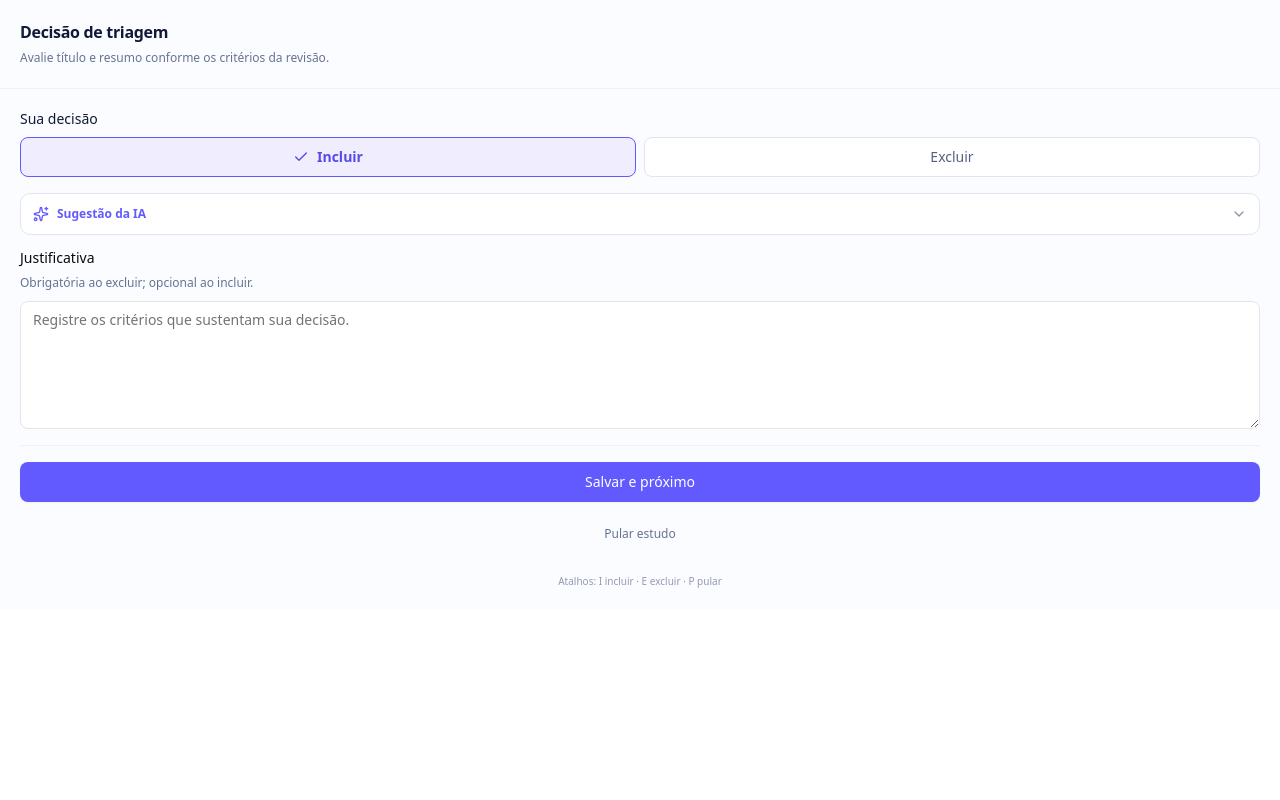
Test: ScreeningDecisionTool › copies the labeled AI suggestion as an editable draft without submitting
Check: the text "Sugestão da IA" is shown, box [33,206,146,222]
What coordinates should you click on to do the following:
click the heading "Sugestão da IA"
I would click on:
 (102, 214)
Its box is [33,205,1247,222].
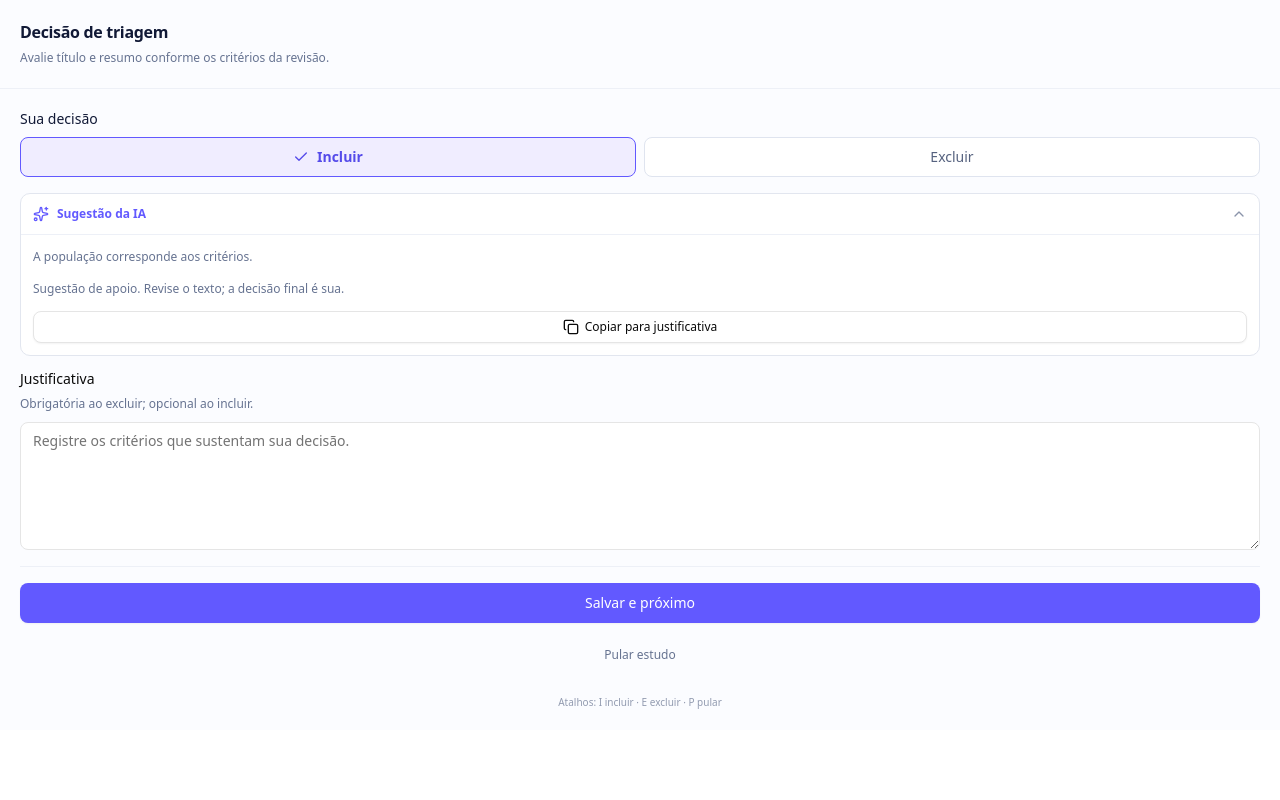
What coordinates should you click on to do the following:
click the button "Copiar para justificativa"
I would click on:
 (640, 327)
Its box is [33,311,1247,343].
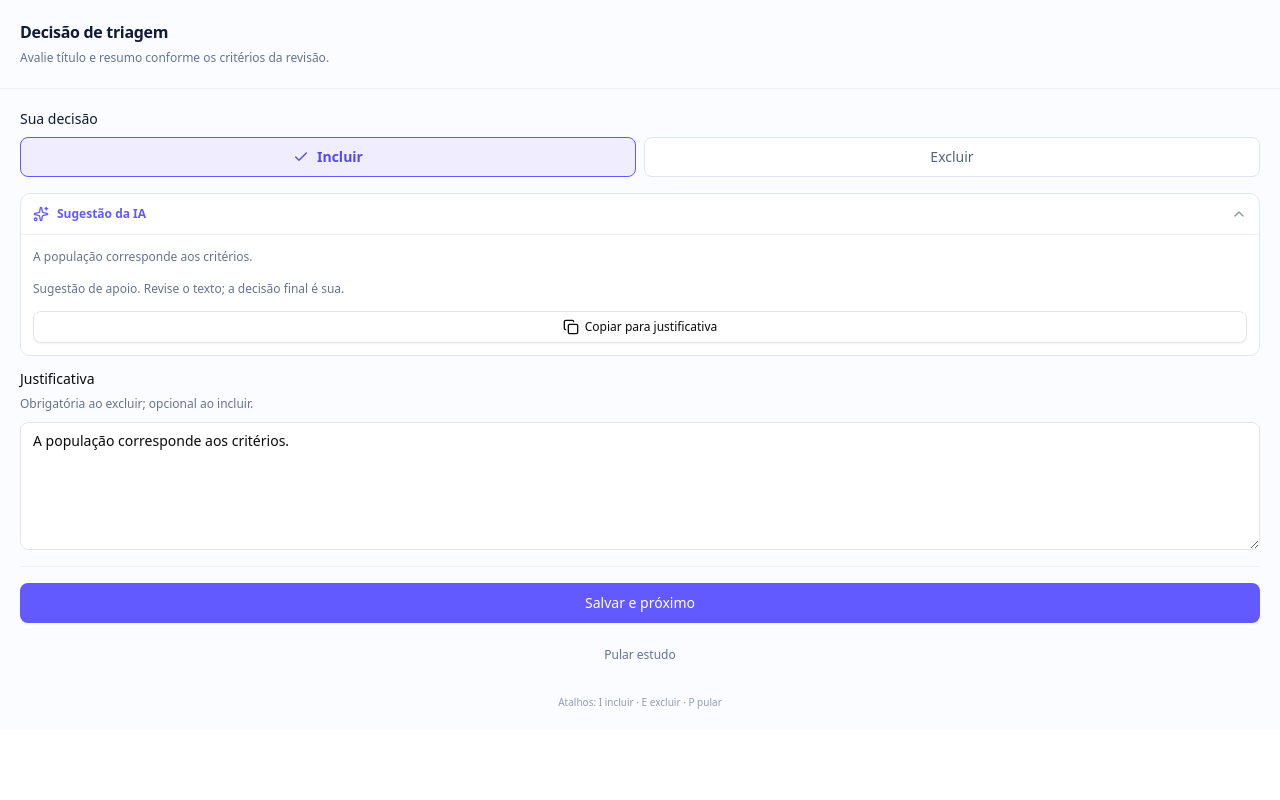
Check: the text box labelled "Justificativa" holds "A população corresponde aos critérios.", box [20,422,1260,550]
